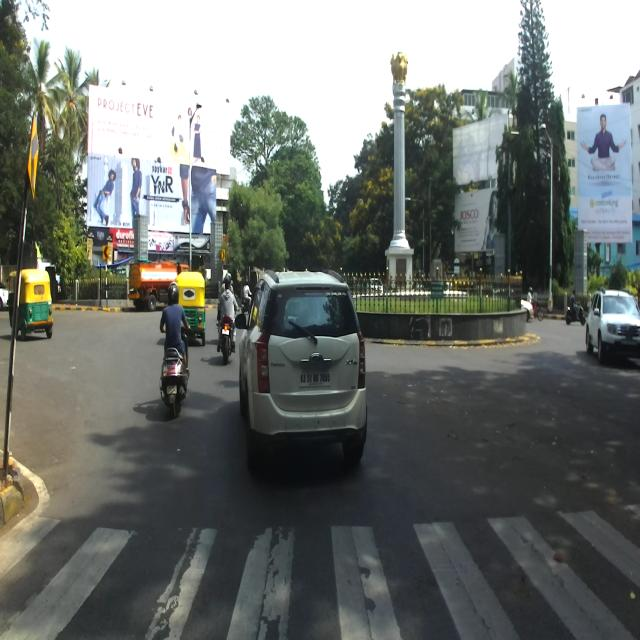car ahead at: (243, 265, 371, 448)
motorcycle ahead at: (154, 338, 194, 419)
zebra crossing ahead at: (2, 478, 636, 640)
